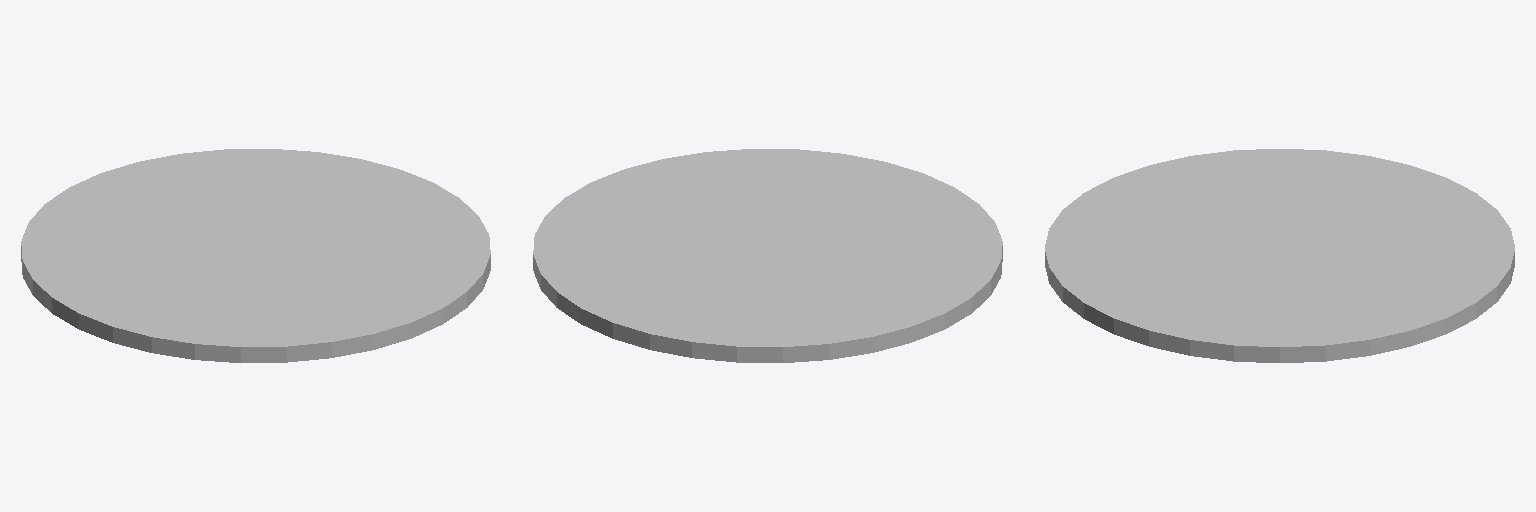
The model's file is pizza.obj.
3 renders of one model, left to right at view 1: azimuth 30°, elevation 25°; view 2: azimuth 150°, elevation 25°; view 3: azimuth 270°, elevation 25°, orthographic.
Parts seen in each view (by area): view 1: Cylinder; view 2: Cylinder; view 3: Cylinder.
Part boxes in pixels (x1,y1,x2,y2): Cylinder: (21,149,490,362); Cylinder: (533,149,1002,362); Cylinder: (1045,149,1514,362).
Bounding box in the file's own units: 2 × 0.0753 × 2.